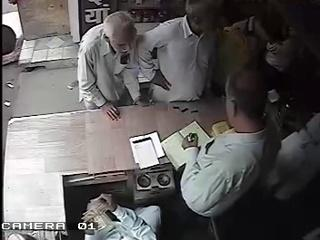Normal: (179, 69, 281, 239), (137, 0, 226, 104), (76, 11, 148, 122), (80, 192, 160, 240)
